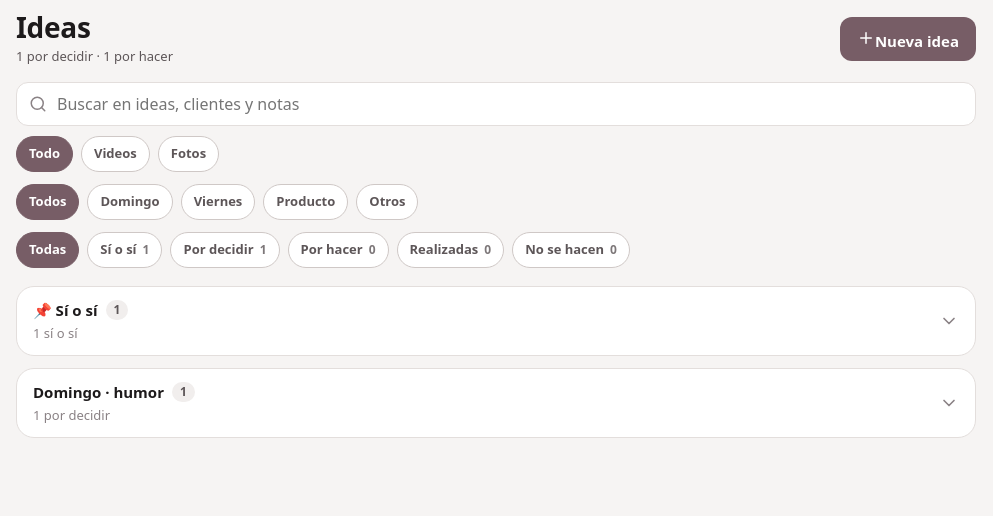
Test case: IdeasPage › grupos cerrados con contador; al abrir se ven las filas
Expected: the text "Reel humor delantal" is not shown
What coordinates should you click on to do the following:
click the button "Domingo · humor 1 1 por decidir"
I would click on:
 (98, 392)
Its box is [17, 369, 975, 437].
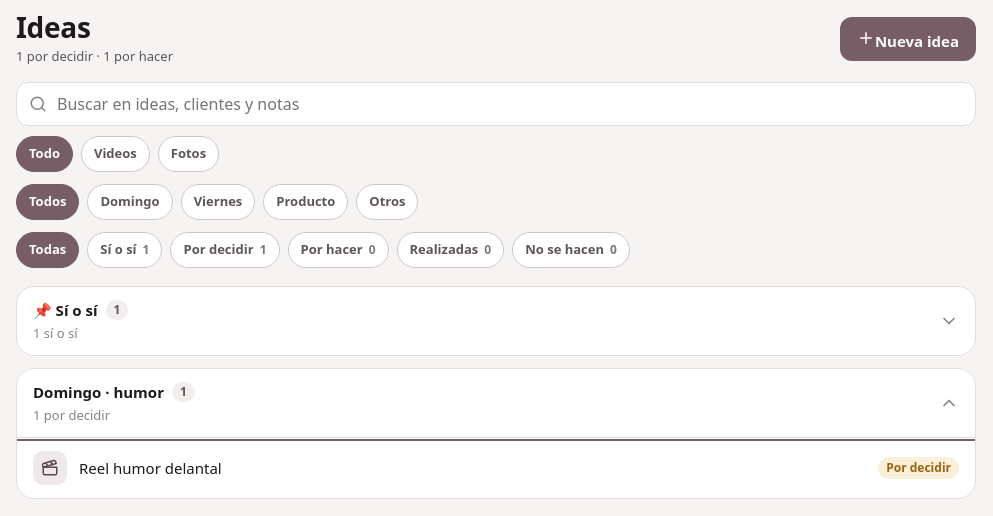
Now the text "Reel humor delantal" is shown, box [79, 458, 222, 478]
